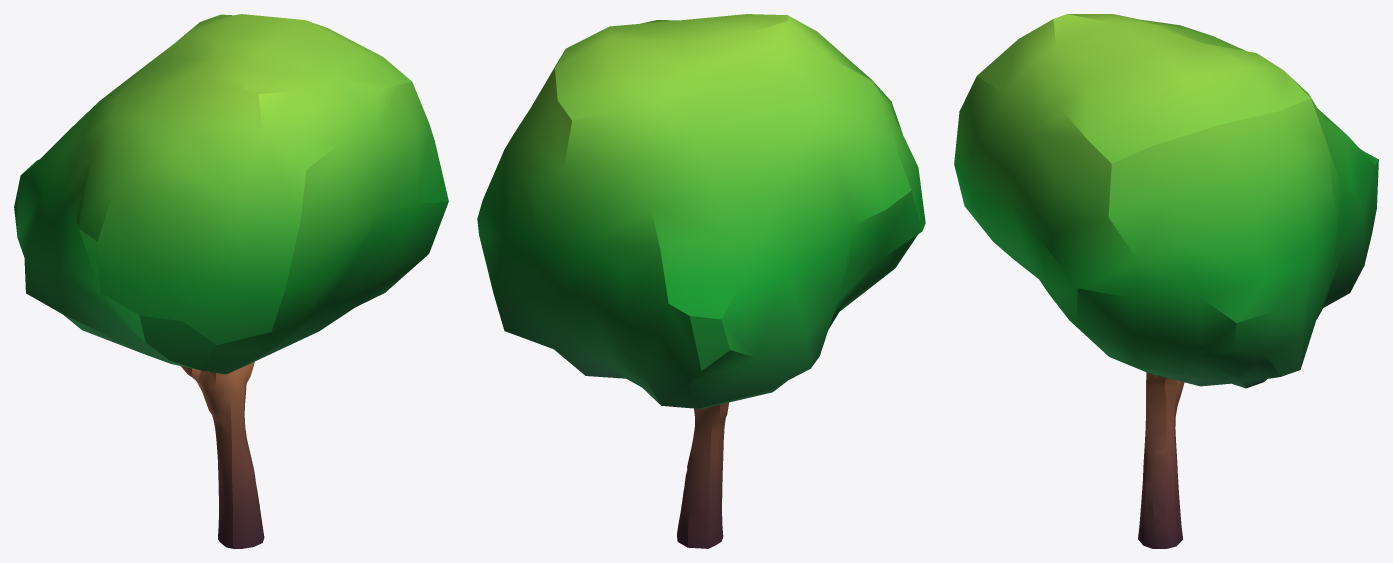
Rendered from Tree5.fbx.
3 renders of one model, left to right at view 1: azimuth 30°, elevation 25°; view 2: azimuth 150°, elevation 25°; view 3: azimuth 270°, elevation 25°, orthographic.
Parts seen in each view (by area): view 1: Tree5; view 2: Tree5; view 3: Tree5.
Part boxes in pixels (box(x1,y1,x2,y2)): Tree5: box(14, 14, 448, 548); Tree5: box(477, 14, 925, 548); Tree5: box(954, 14, 1378, 548).
Size of the model in its own units: 7.76 by 10.02 by 7.65.
